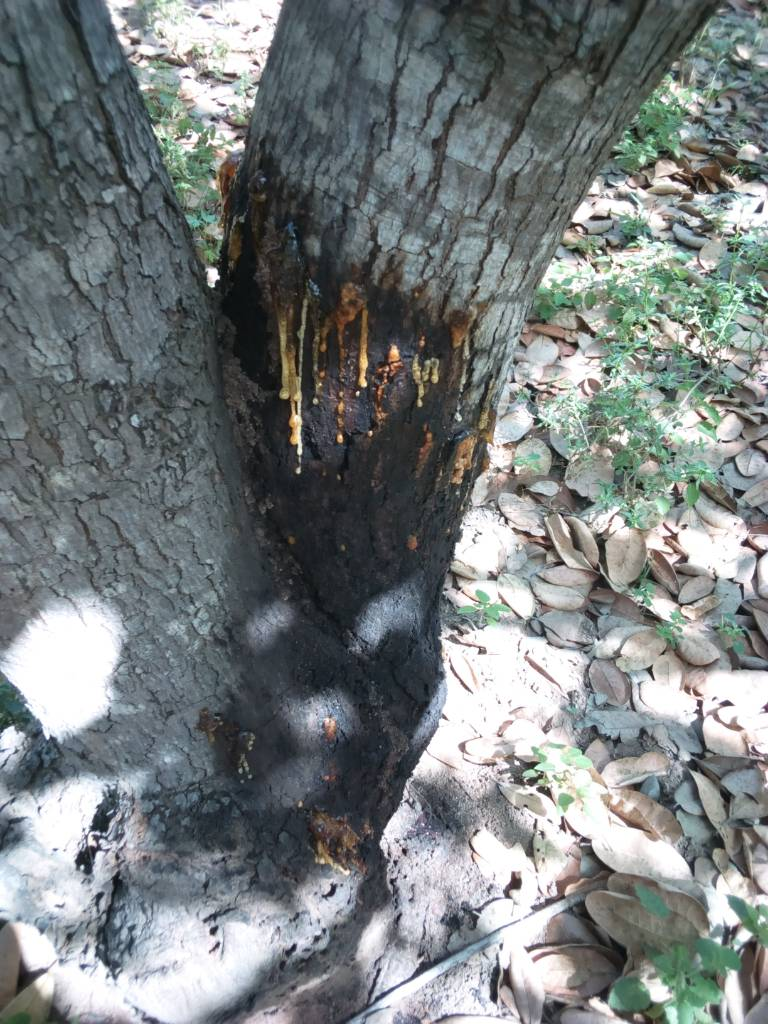Gommose: (213, 189, 469, 877)
